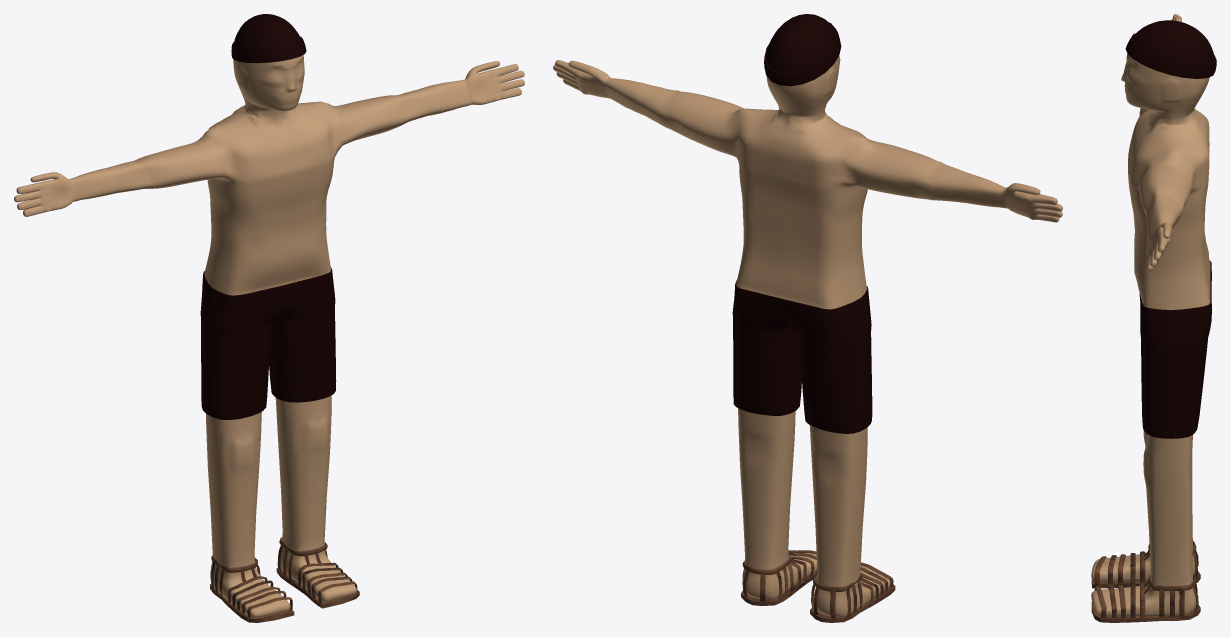
The model's file is LumberJack.fbx.
3 views of the same model, side by side, from view 1: azimuth 30°, elevation 25°; view 2: azimuth 150°, elevation 25°; view 3: azimuth 270°, elevation 25° (orthographic). The views are drawn at different scales.
Parts seen in each view (by area): view 1: Man, Beanie, LeftShoe, RighShoe; view 2: Man, Beanie, RighShoe, LeftShoe; view 3: Man, Beanie, LeftShoe, RighShoe.
Boxes of the visible parts, x1,y1,x2,y2 form: Man: (14,55,524,618); Beanie: (231,14,306,63); LeftShoe: (276,537,359,608); RighShoe: (210,555,294,622); Man: (553,56,1062,617); Beanie: (764,14,841,86); RighShoe: (810,562,895,622); LeftShoe: (741,550,817,605); Man: (1091,14,1211,616); Beanie: (1125,20,1216,78); LeftShoe: (1091,574,1200,622); RighShoe: (1091,541,1200,588).
Bounding box in the file's own units: 9.96 × 10.75 × 2.13.
